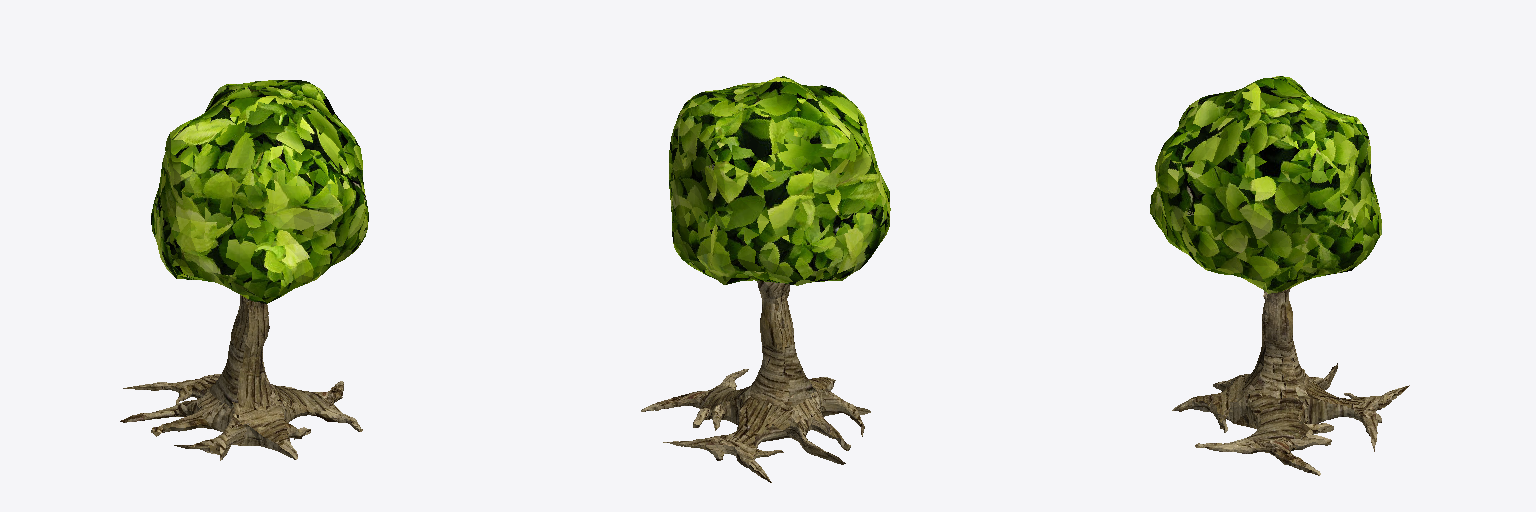
3 views of the same model, side by side, from view 1: azimuth 30°, elevation 25°; view 2: azimuth 150°, elevation 25°; view 3: azimuth 270°, elevation 25° (orthographic).
Visible parts, largest first — view 1: Feuillage_Cube, Tronc_Cube.001; view 2: Feuillage_Cube, Tronc_Cube.001; view 3: Feuillage_Cube, Tronc_Cube.001.
Boxes of the visible parts, <box> form: Feuillage_Cube: <box>151,80,368,303</box>; Tronc_Cube.001: <box>120,295,362,460</box>; Feuillage_Cube: <box>669,76,890,285</box>; Tronc_Cube.001: <box>641,281,870,482</box>; Feuillage_Cube: <box>1150,76,1381,293</box>; Tronc_Cube.001: <box>1172,288,1409,475</box>.
Size of the model in its own units: 8.65 by 12.88 by 9.03.
2 materials, 2 textured.